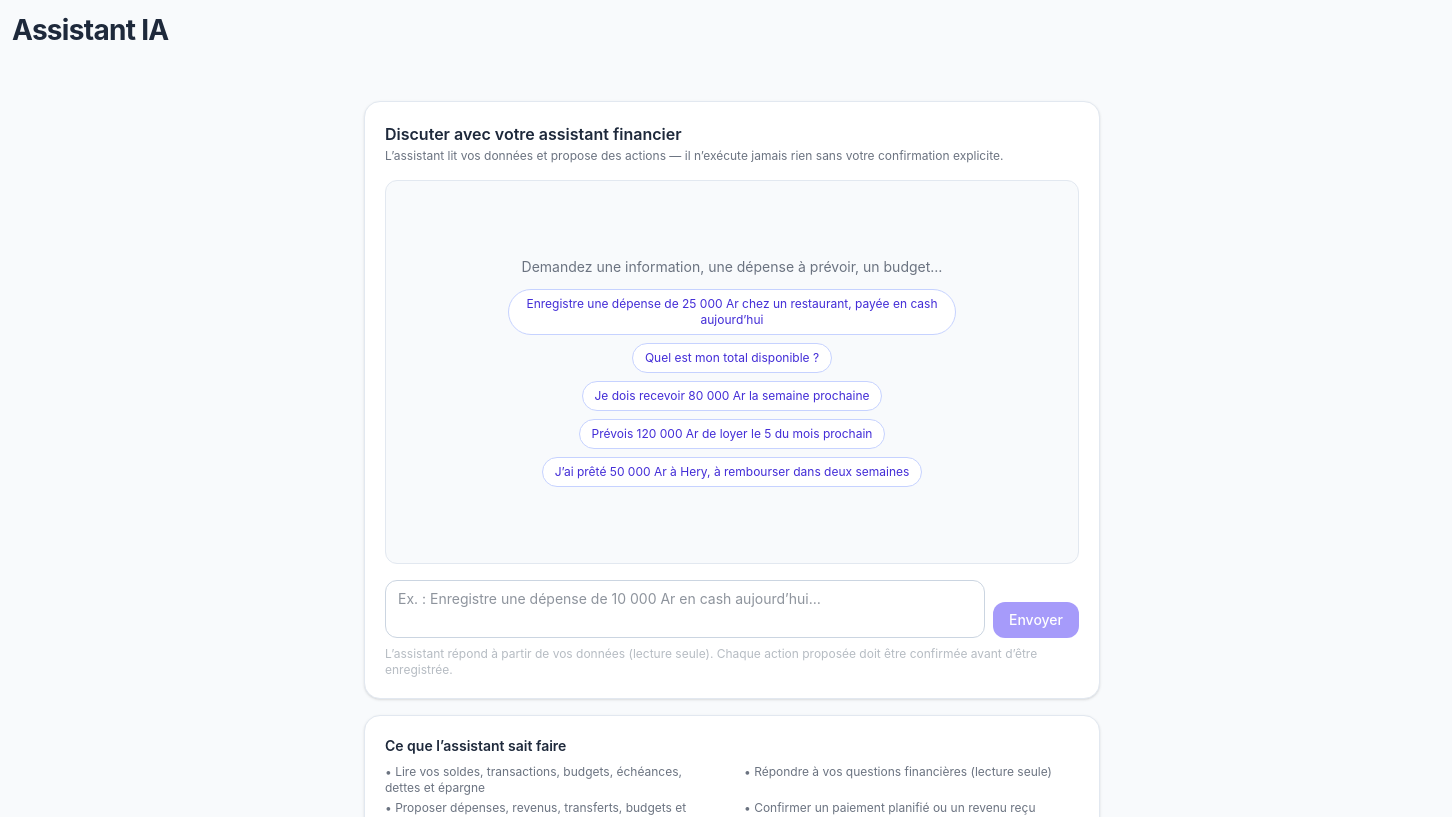
Test case: AssistantPage — envoi d’un message › réponse ANSWER : le message de l’assistant s’affiche
The image size is (1452, 817).
Expected: the heading "Assistant IA" is shown, x1=12 y1=13 x2=169 y2=47
Type "Quel est mon total disponible ?" into the text box named "Votre message" at (685, 609), box x1=385 y1=580 x2=985 y2=638
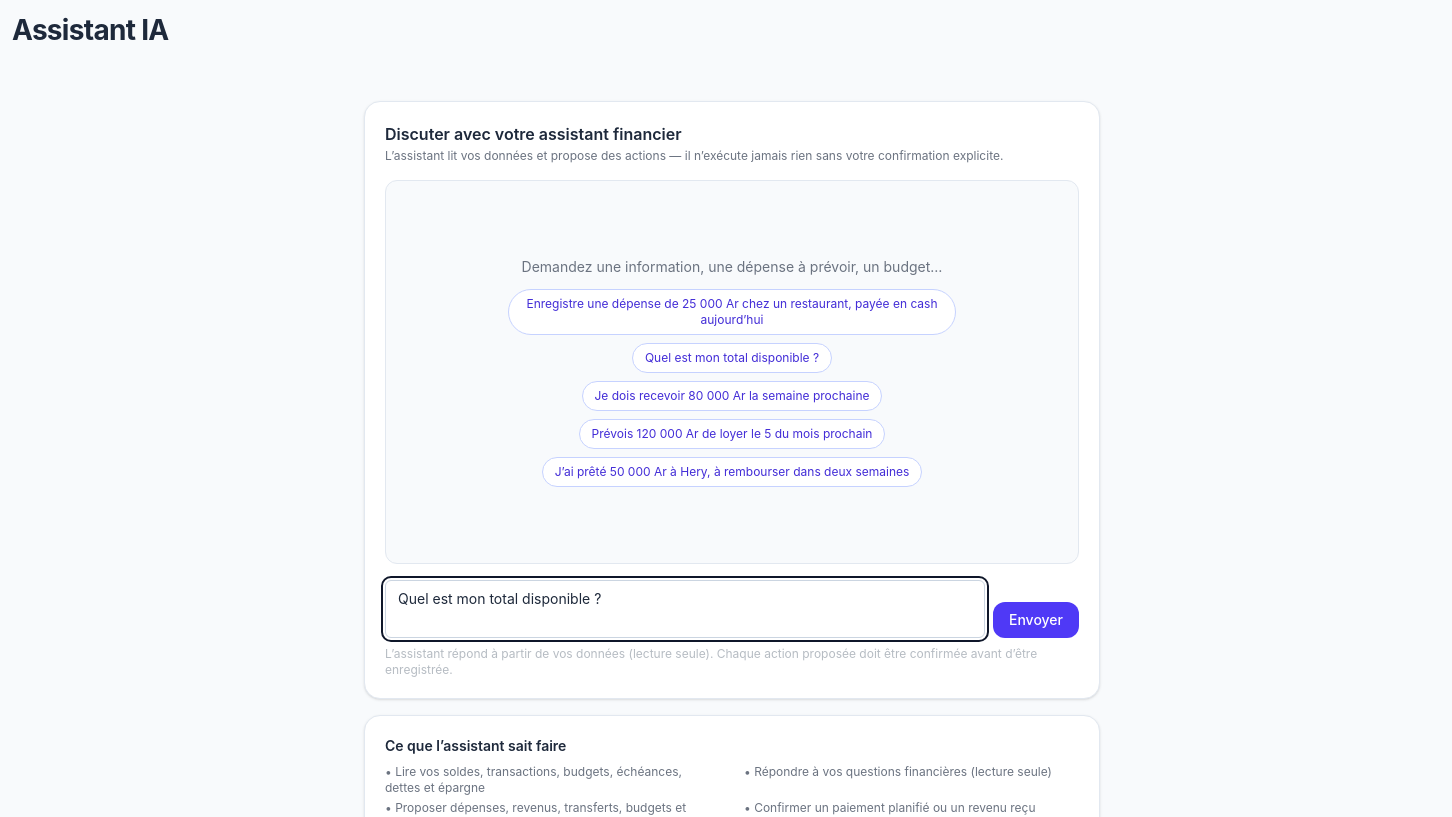
Click the button "Envoyer" at (1036, 620), box x1=993 y1=602 x2=1079 y2=638
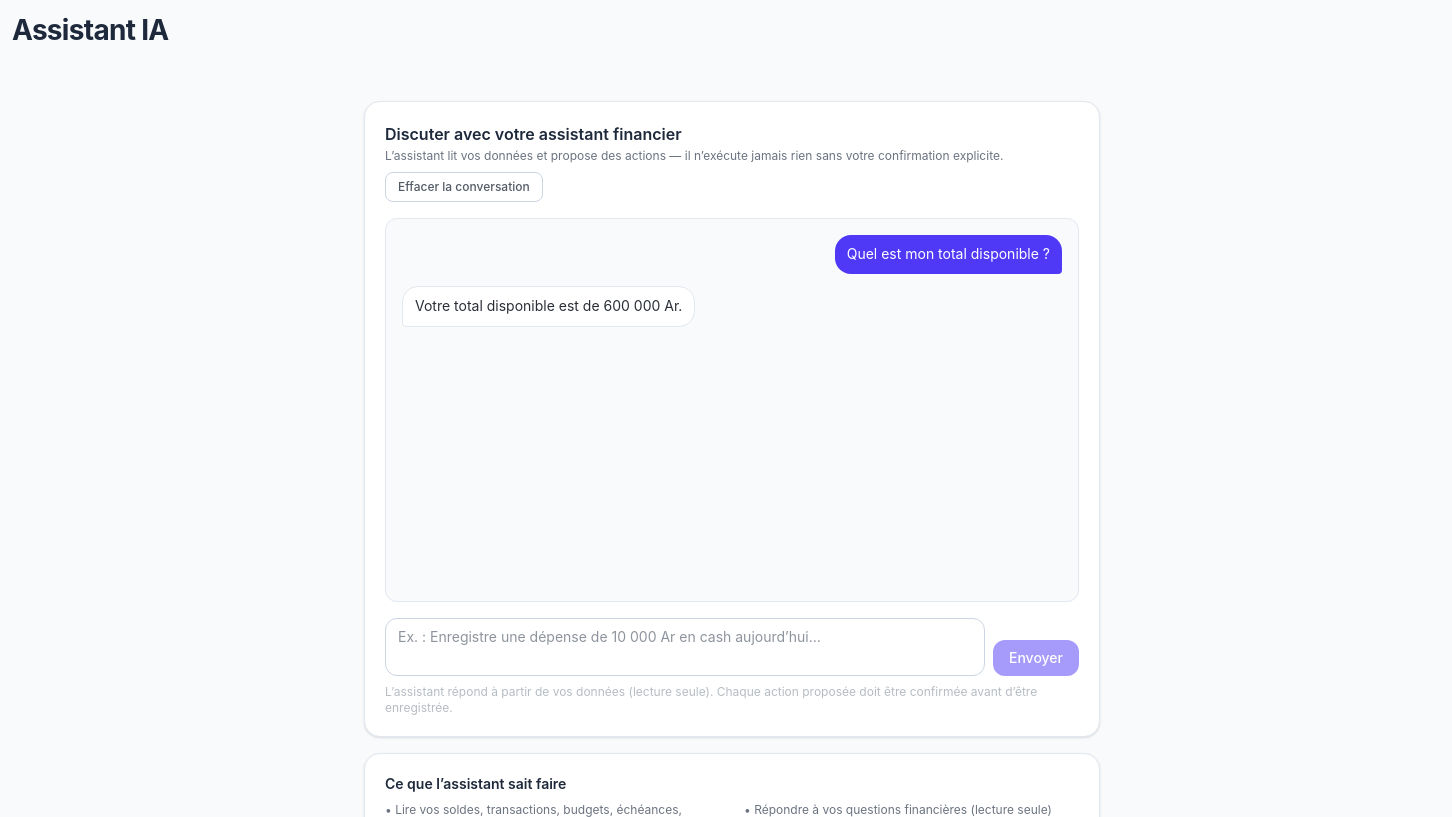
Expected: the text "Quel est mon total disponible ?" is shown, x1=835 y1=235 x2=1062 y2=274
Now the text "Votre total disponible est de 600 000 Ar." is shown, box x1=402 y1=286 x2=695 y2=327
